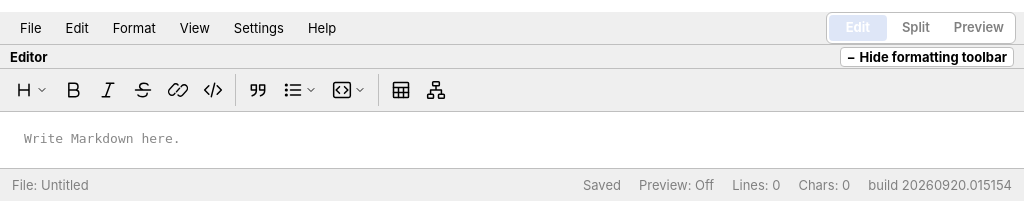
Test case: document session safety › toggles the formatting toolbar from the pane header and persists the choice
This screenshot has width=1024, height=218.
expect the element with id "formatting-toolbar-region" is shown: met, box [0,69,1023,112]
Click the button "− Hide formatting toolbar".
click(927, 56)  # box [840,46,1014,66]
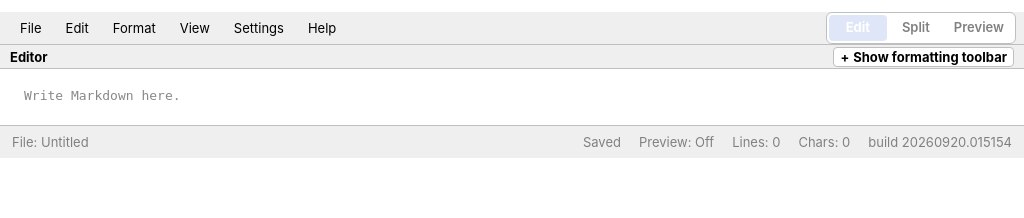
expect the button "+ Show formatting toolbar" is collapsed: met, box [833,46,1014,66]
expect the element with id "formatting-toolbar-region" is gone: met
